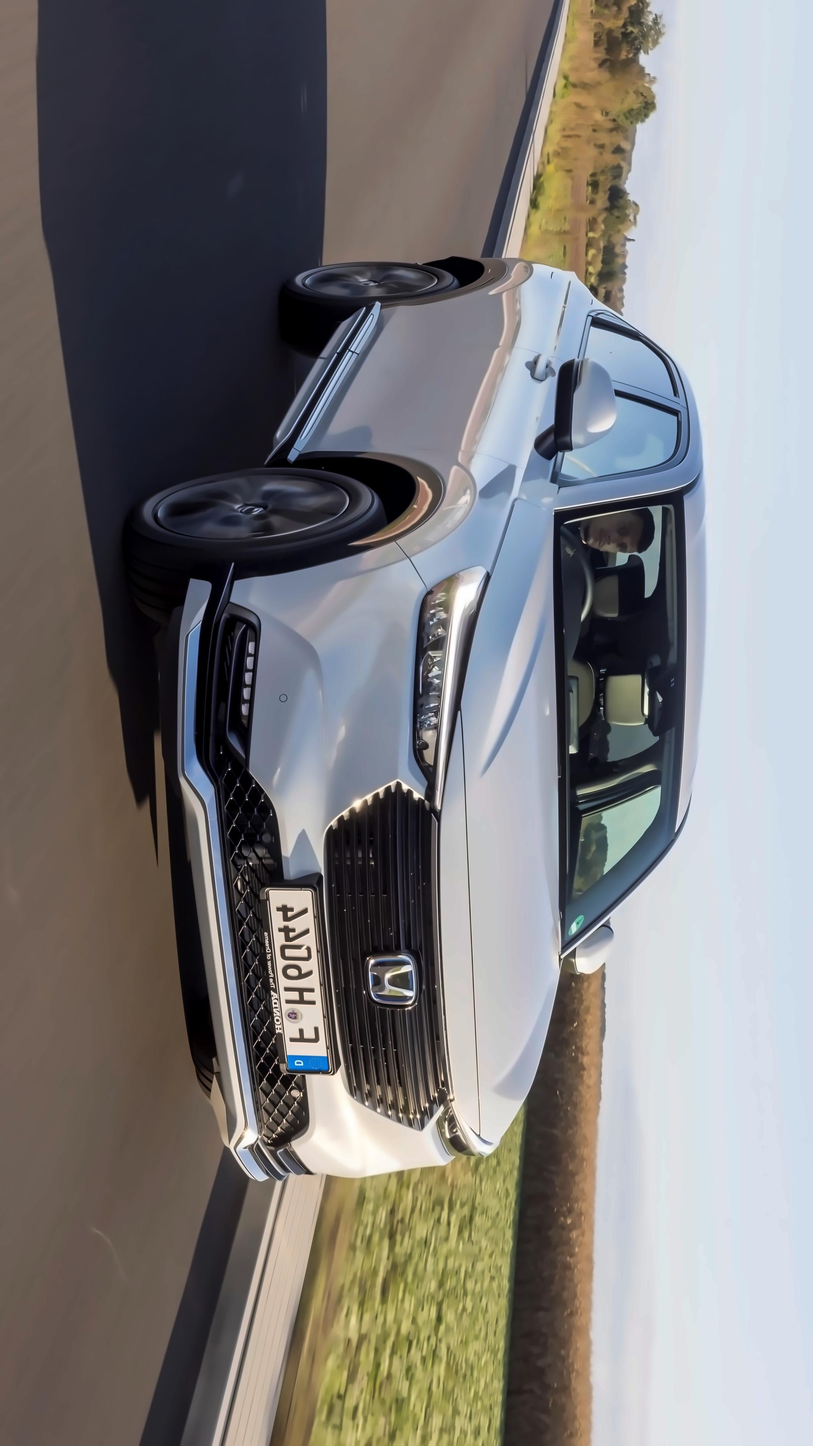Car hood: (434, 480, 566, 1163)
Driver-s door - -F-R-: (281, 347, 699, 492)
Fender - -F-R-: (247, 433, 570, 590)
Front bumper: (165, 546, 426, 1188)
Headlight - -L-: (415, 1091, 485, 1172)
Headlight - -R-: (400, 556, 497, 824)
Passenger-s door - -R-R-: (327, 270, 681, 399)
Side bumper - -R-: (268, 295, 382, 463)
Side mirror - -L-: (555, 919, 624, 984)
Side mirror - -R-: (530, 348, 626, 470)
